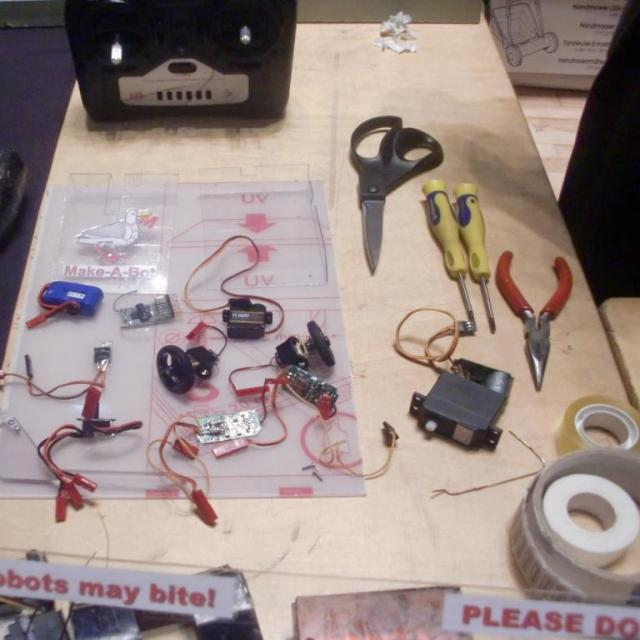scissor: (345, 107, 446, 272)
